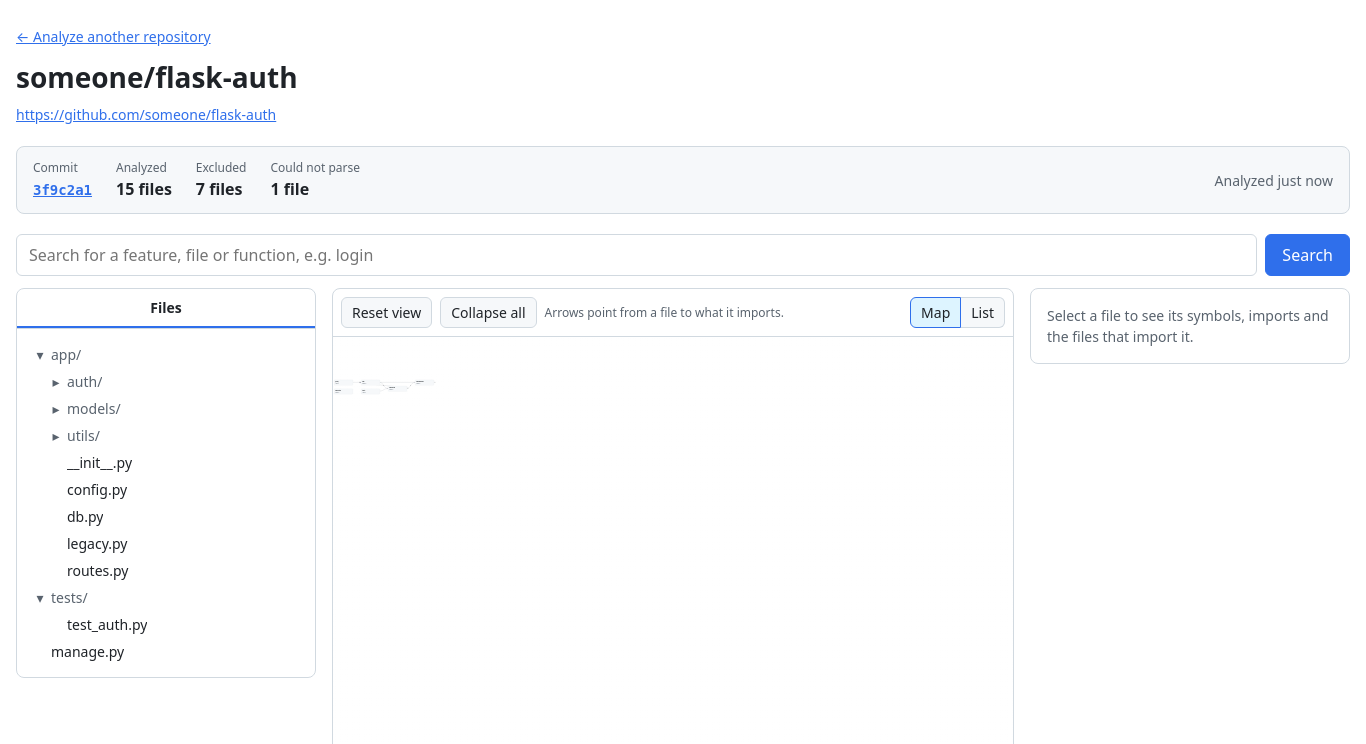
Test: AnalysisPage search › opens an entry and steps through the reading order
Type "login" into the search field named "Search this repository" at [637, 255], box [16,234,1257,276]
Then press Enter
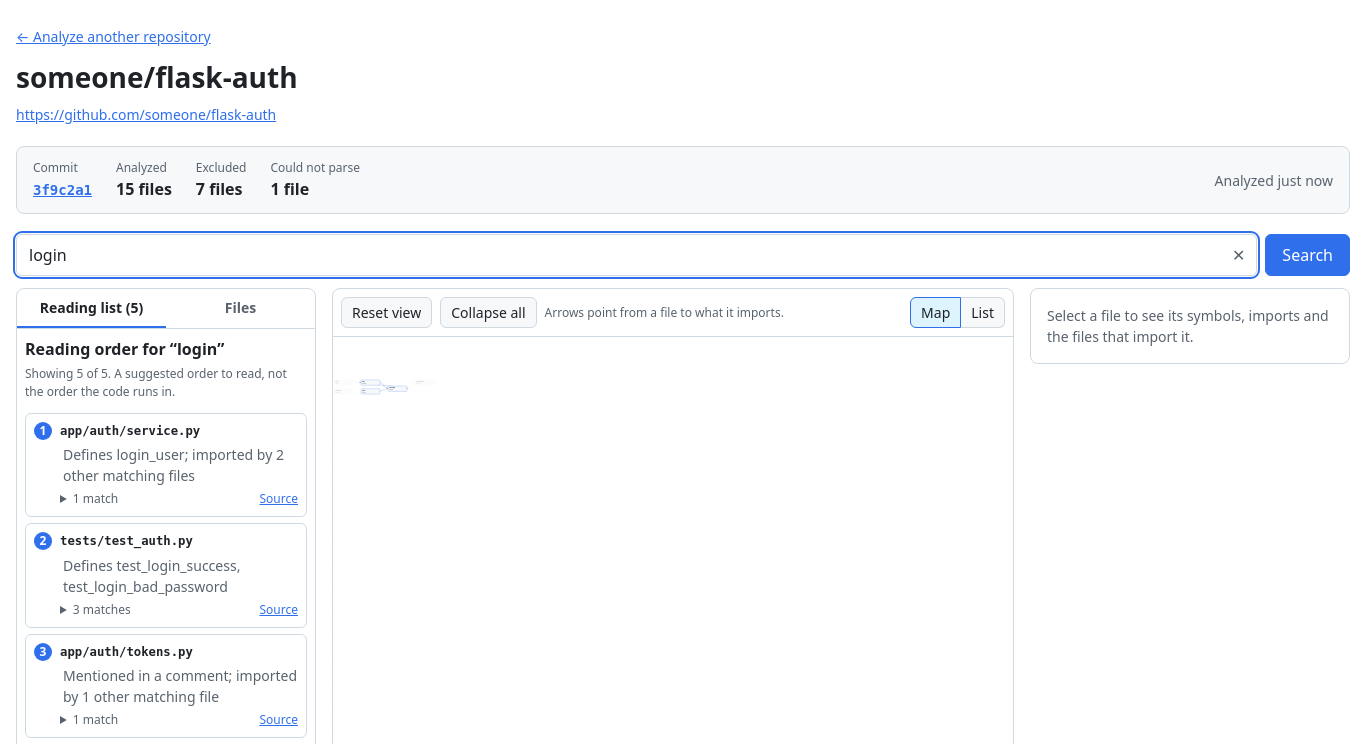
Click the button with aria-label "1. app/auth/service.py" at [166, 431], box [34,422,298,440]
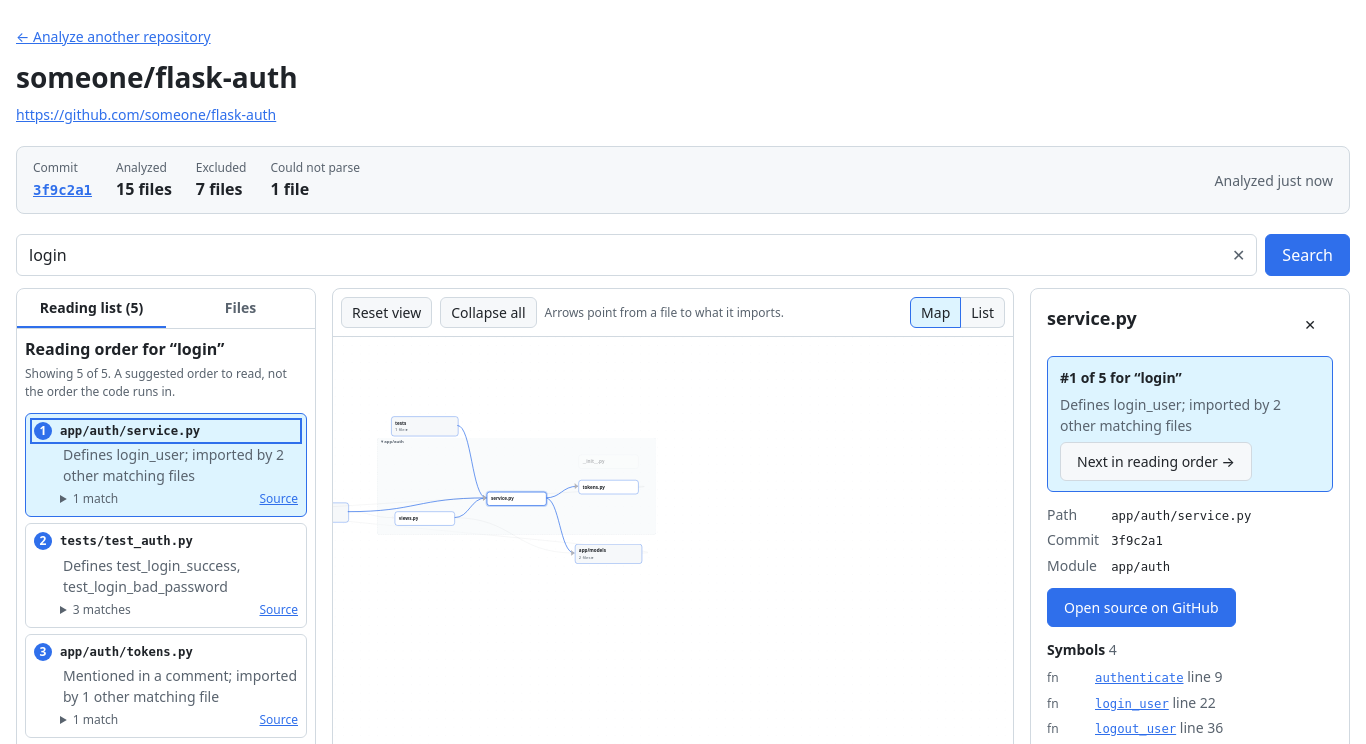
Expected: the text "#1 of 5 for “login”" is shown, [1060,367,1182,388]
Click the button "Next in reading order →" at [1156, 462], box [1060,442,1252,481]
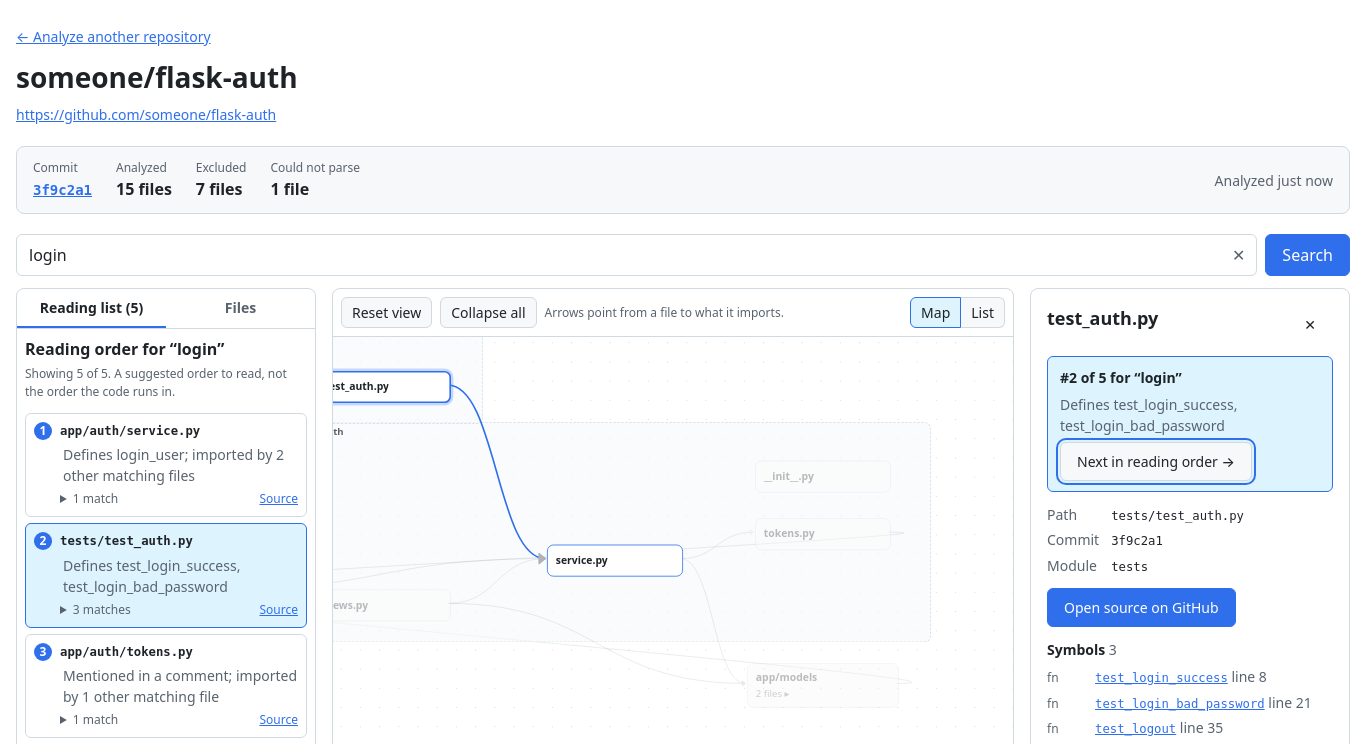
Expected: the text "#2 of 5 for “login”" is shown, [1060,367,1182,388]
